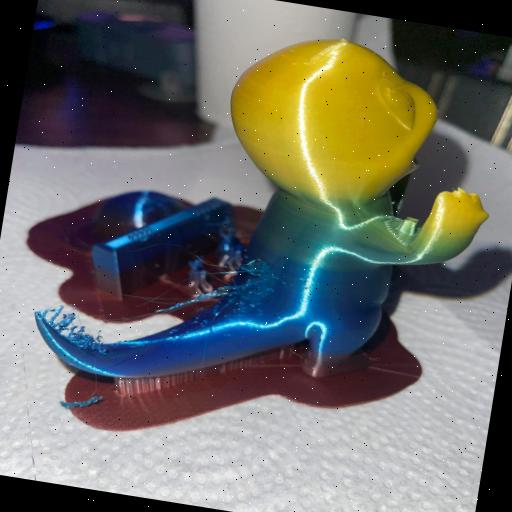stringing: (157, 252, 270, 326), (39, 305, 110, 351)
